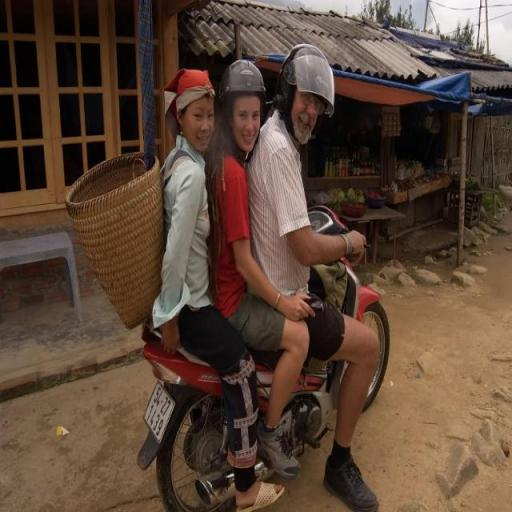tripple riding: (152, 42, 343, 452)
